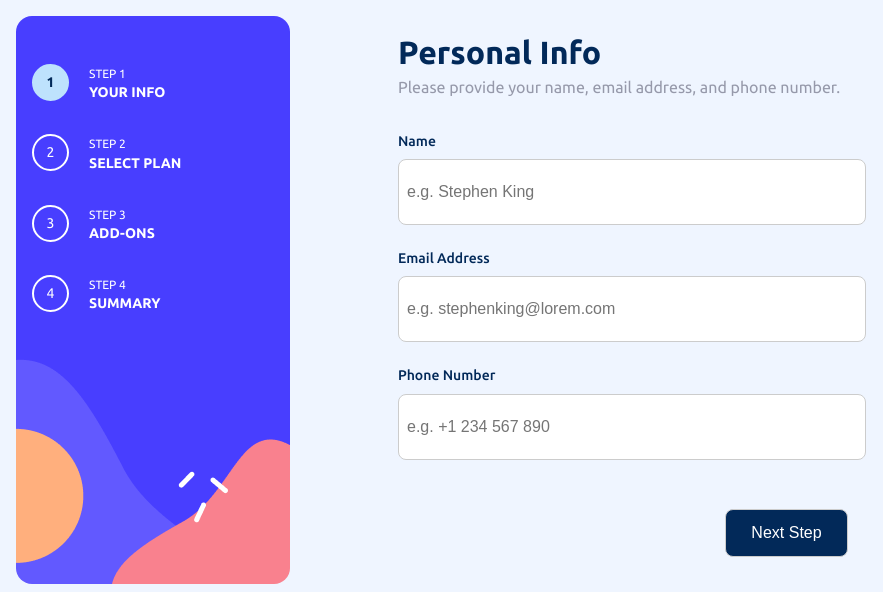
Test: Step 1 › renders three errors if no field have data
The image size is (883, 592).
Click the button "Next Step" at (786, 533), box [725, 509, 848, 557]
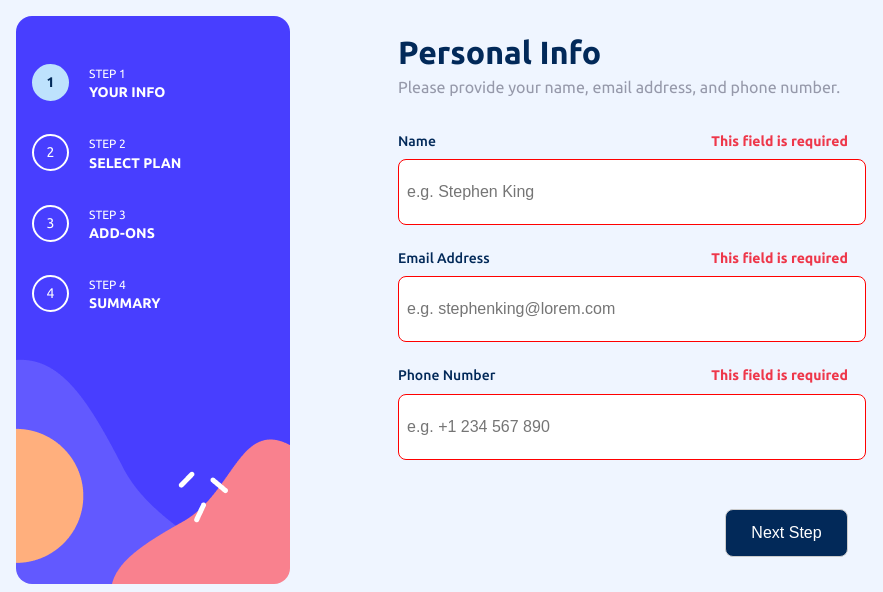
Now the 1st text "This field is required" is shown, box [711, 132, 848, 151]
Now the 2nd text "This field is required" is shown, box [711, 249, 848, 268]
Now the 3rd text "This field is required" is shown, box [711, 366, 848, 386]
